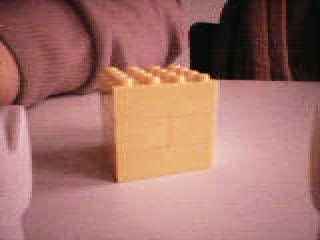legocube: (94, 63, 219, 186)
